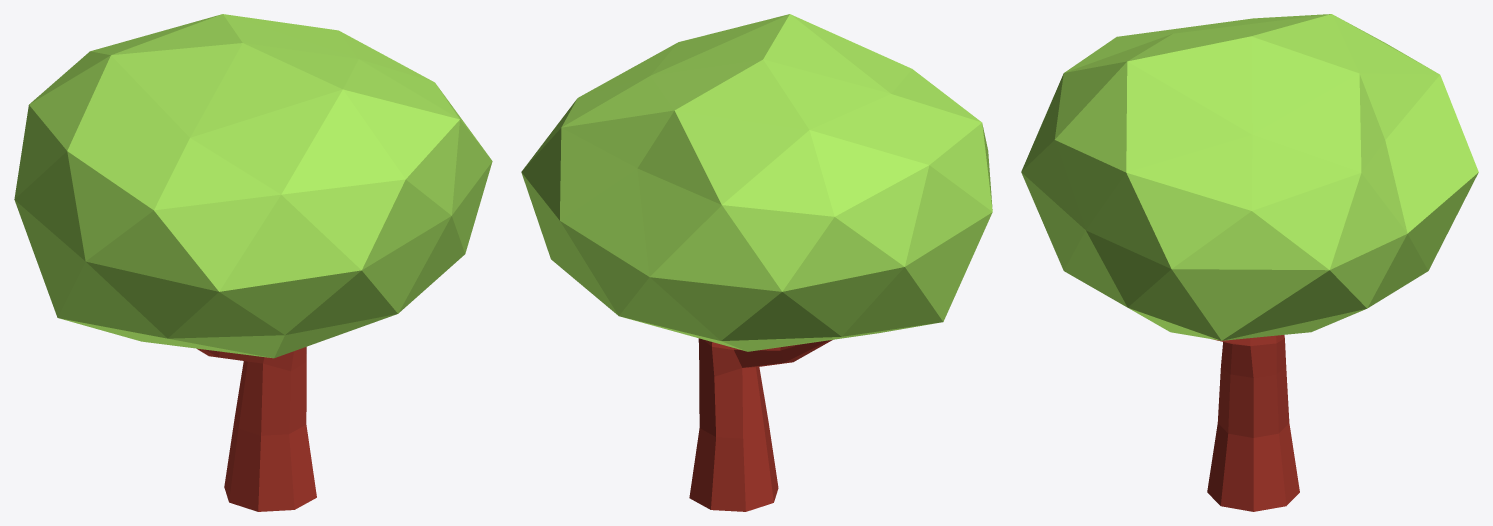
The model's file is Tree2, Tall_Fat.fbx.
3 renders of one model, left to right at view 1: azimuth 30°, elevation 25°; view 2: azimuth 150°, elevation 25°; view 3: azimuth 270°, elevation 25°, orthographic. The views are drawn at different scales.
Visible parts, largest first — view 1: Tree2; view 2: Tree2; view 3: Tree2.
Part boxes in pixels (left/top/right/bottom): Tree2: left=14, top=14, right=492, bottom=511; Tree2: left=521, top=14, right=992, bottom=511; Tree2: left=1021, top=14, right=1478, bottom=511.
Size of the model in its own units: 478 by 511 by 479.
